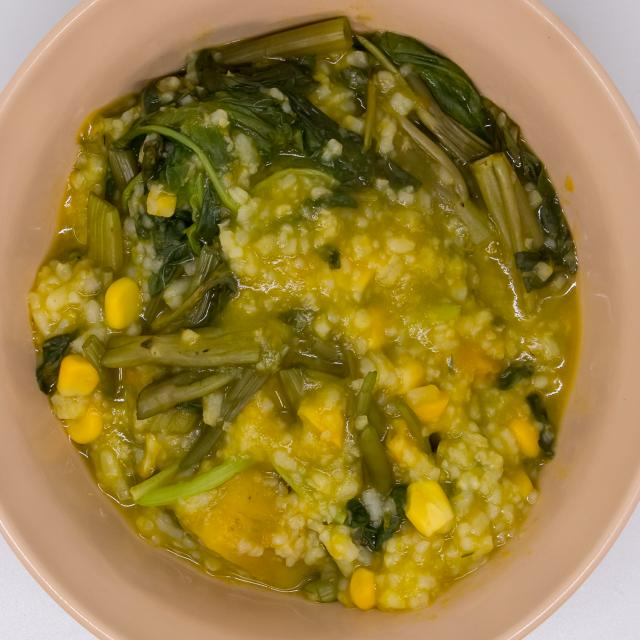Bubur-Manado: (35, 4, 592, 620)
